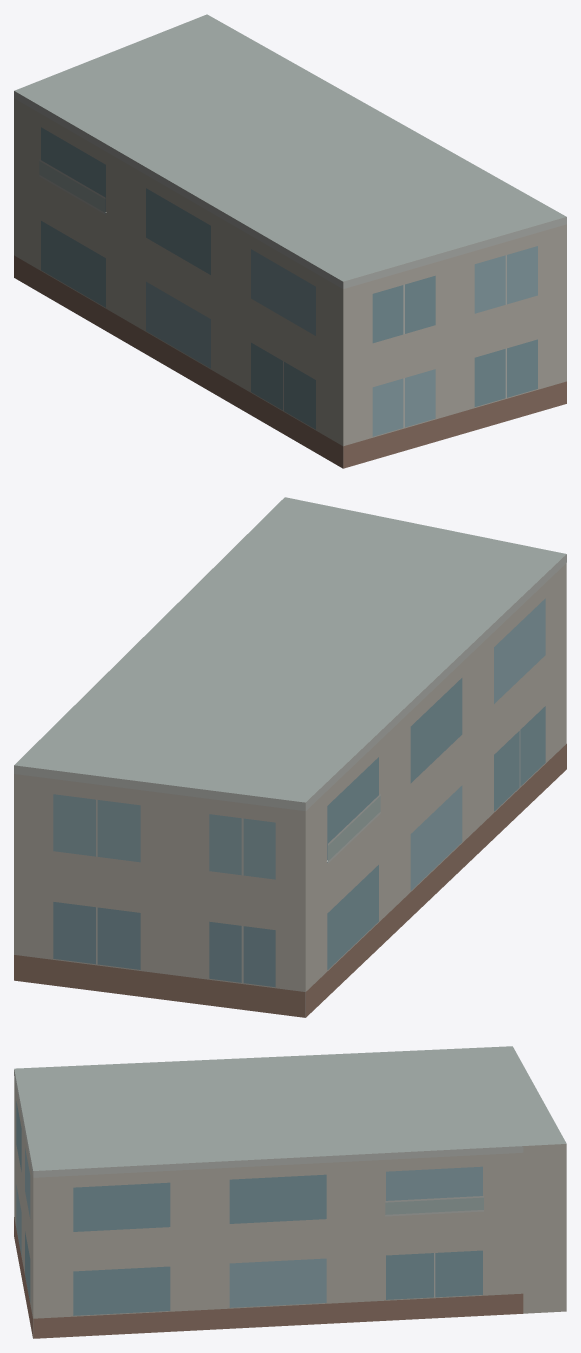
The model's file is survey-upis-32781830.glb.
The picture shows the model from 3 angles, top to bottom: view 1: azimuth 30°, elevation 25°; view 2: azimuth 150°, elevation 25°; view 3: azimuth 270°, elevation 25°; orthographic projection. The views are drawn at different scales.
Parts seen in each view (by area): view 1: survey-upis-32781830.tmp; view 2: survey-upis-32781830.tmp; view 3: survey-upis-32781830.tmp.
Part boxes in pixels (box(x1,y1,x2,y2)): survey-upis-32781830.tmp: box(14, 14, 566, 468); survey-upis-32781830.tmp: box(14, 497, 566, 1017); survey-upis-32781830.tmp: box(14, 1046, 566, 1338).
Bounding box in the file's own units: 9.76 × 6.1 × 18.24.
